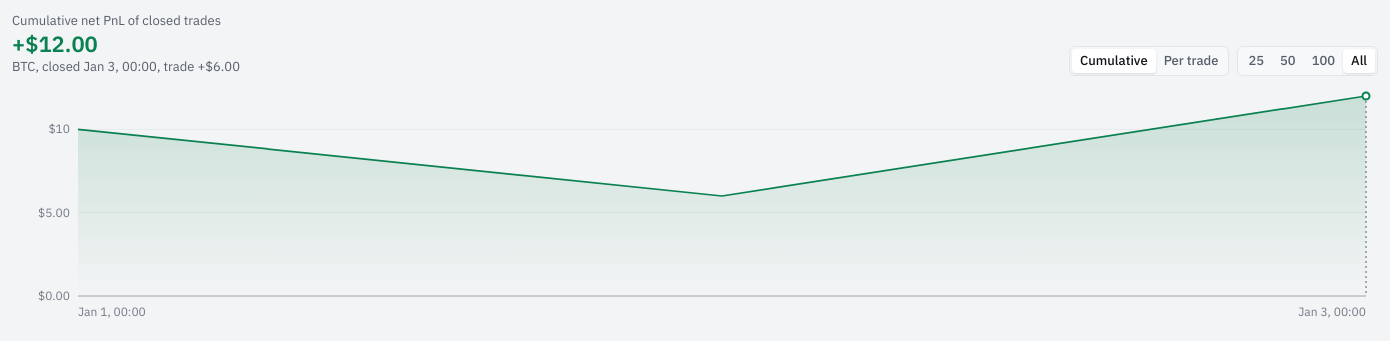
Test: PerformanceChart › switches between cumulative and per trade views and supports keyboard inspection
The width and height of the screenshot is (1390, 341).
Expected: the text "Cumulative net PnL of closed trades" is shown, [12,12,240,30]
Expected: the text "+$12.00" is shown, [12,29,98,58]
Click the button "Per trade" at [1191, 61], box [1156,49,1226,73]
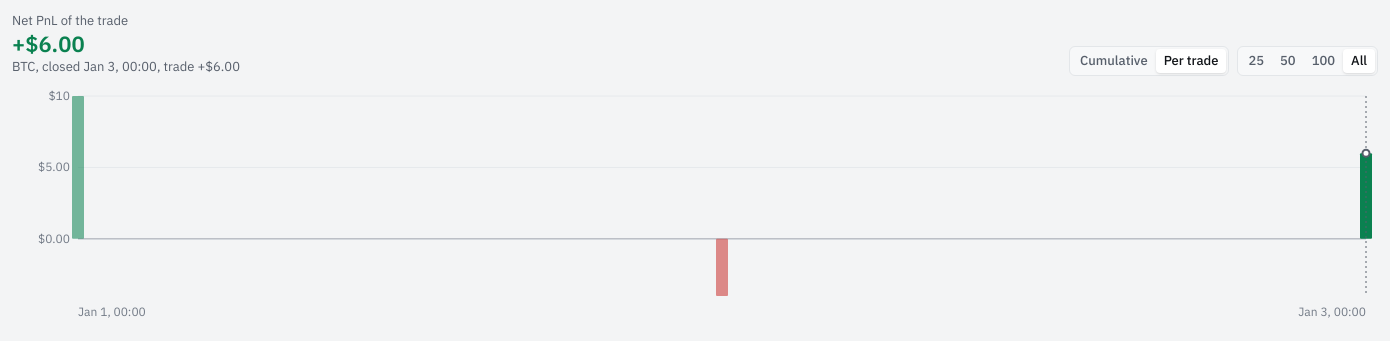
Expected: the text "Net PnL of the trade" is shown, [12,12,128,29]
Click the button "25" at [1256, 61], box [1240,49,1272,73]
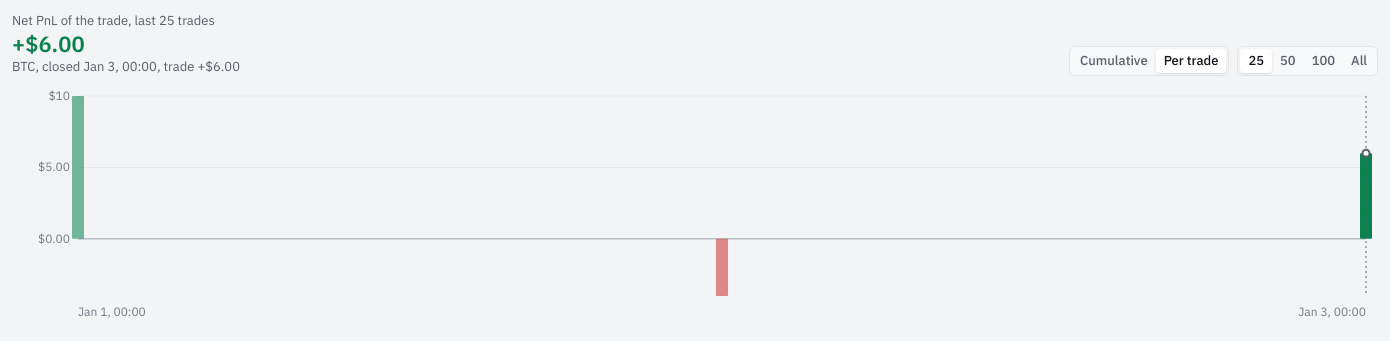
Expected: the button "25" is pressed, [1240,49,1272,73]
Press ArrowLeft in the picture named "Chart of 3 closed trades"
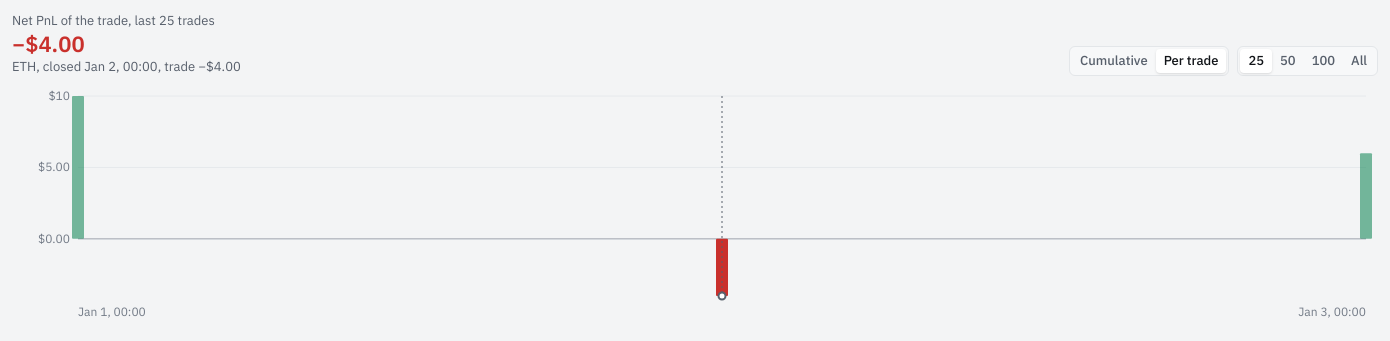
Expected: the text "ETH, closed Jan 2, 00:00, trade −$4.00" is shown, [12,58,241,76]
Expected: the text "−$4.00" is shown, [12,29,85,58]
